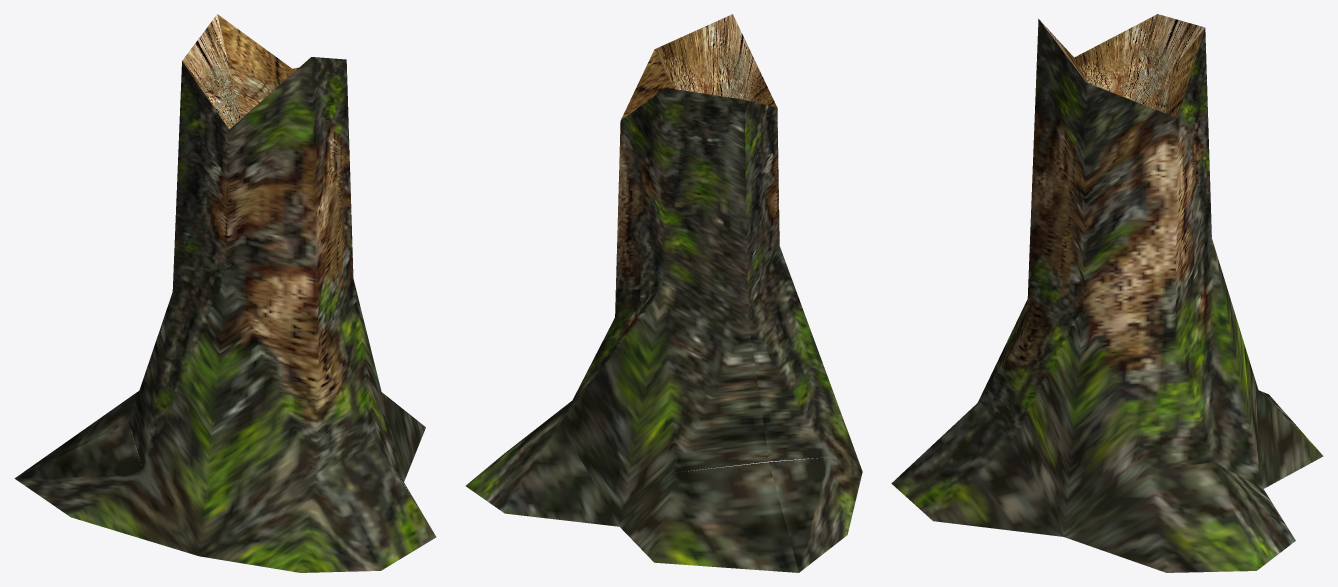
Rendered from tree4_14g.glb.
3 renders of one model, left to right at view 1: azimuth 30°, elevation 25°; view 2: azimuth 150°, elevation 25°; view 3: azimuth 270°, elevation 25°, orthographic. The views are drawn at different scales.
Parts seen in each view (by area): view 1: tree4_14g; view 2: tree4_14g; view 3: tree4_14g.
Boxes of the visible parts, x1,y1,x2,y2 form: tree4_14g: [14, 14, 436, 572]; tree4_14g: [466, 14, 862, 572]; tree4_14g: [891, 14, 1323, 572].
Bounding box in the file's own units: 3.17 × 3.87 × 3.25.
Materials: 2 (2 with a texture image).
